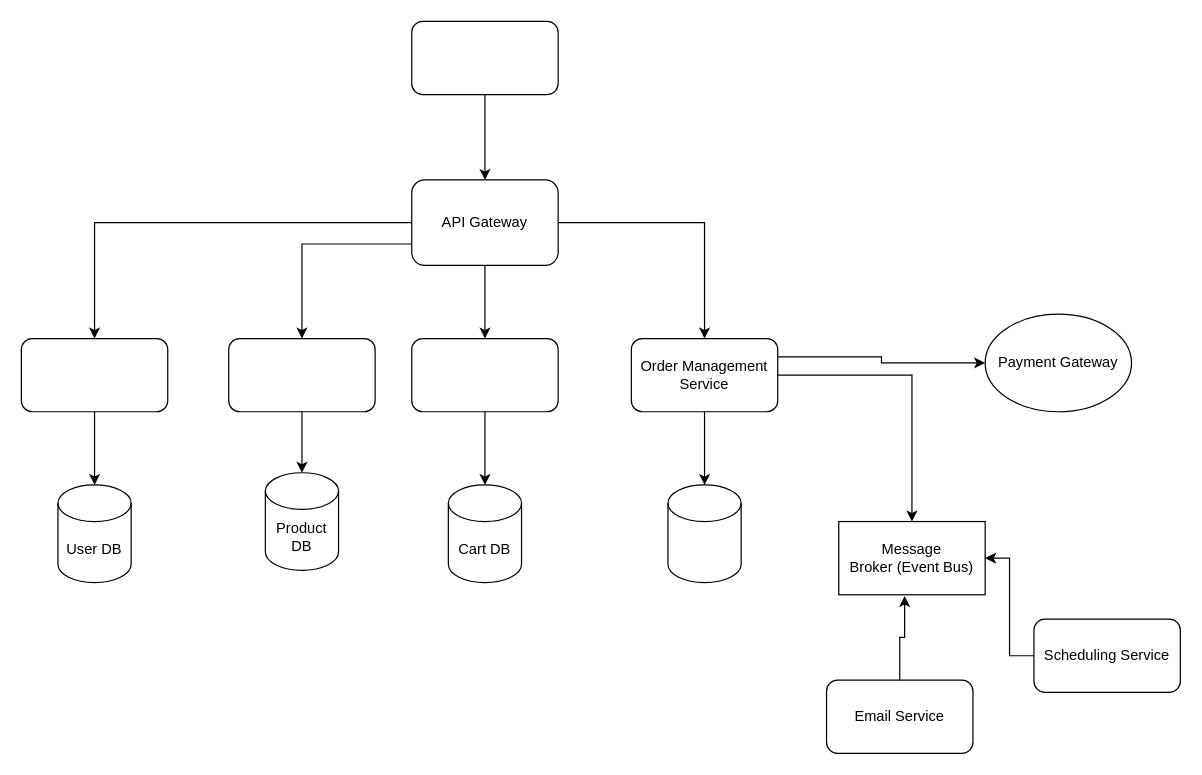
This 1202x775 diagram has some shape labels left out. Each missing label, with the centre of its shape:
"Frontend Apps" goes at (x=484, y=57).
"Order DB" goes at (x=704, y=533).
"Product Catalog Service" goes at (x=301, y=374).
"Shopping Cart Service" goes at (x=484, y=374).
"User Management Service" goes at (x=94, y=374).
